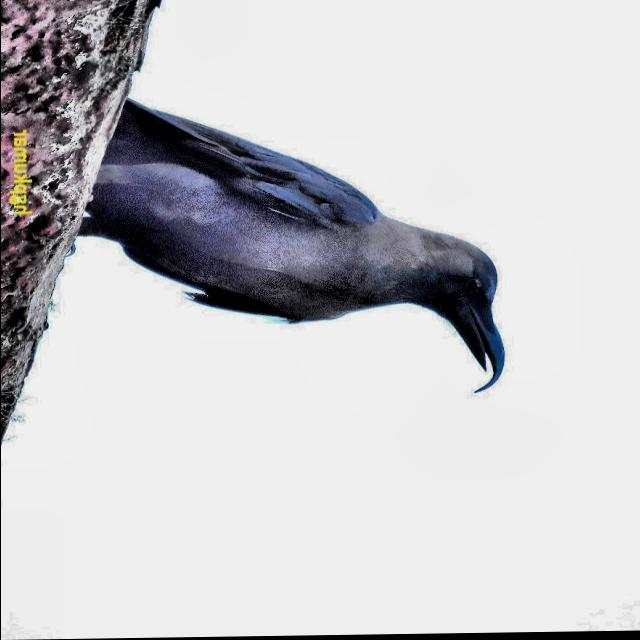crow: (76, 89, 520, 424)
